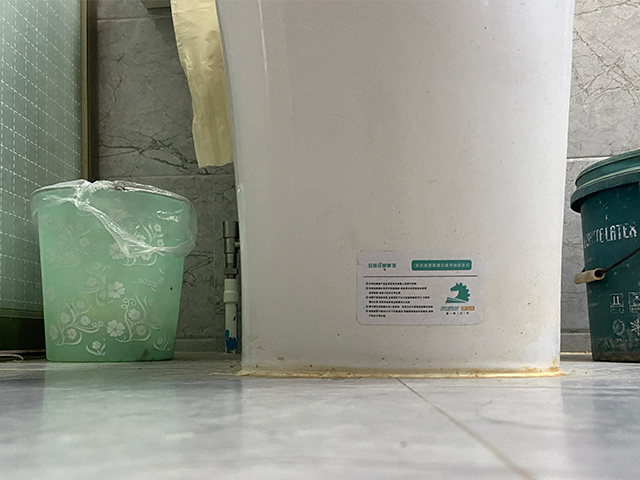closestool: (213, 1, 576, 378)
trashcan: (29, 178, 200, 363)
